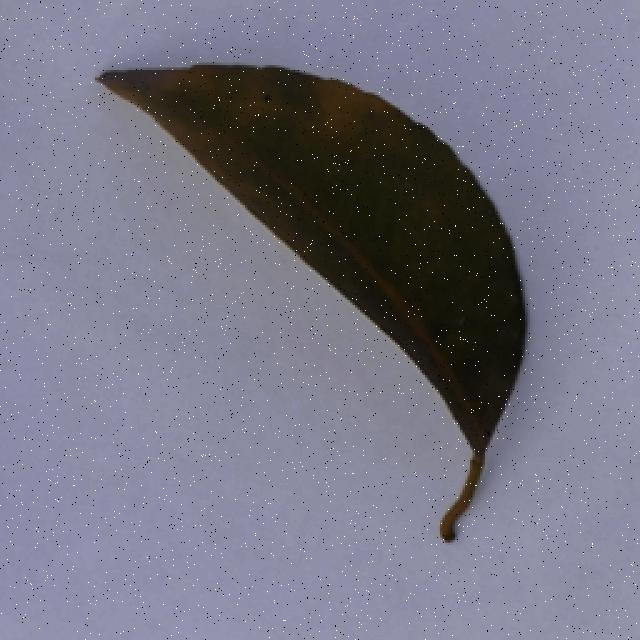greening: (81, 53, 537, 553)
